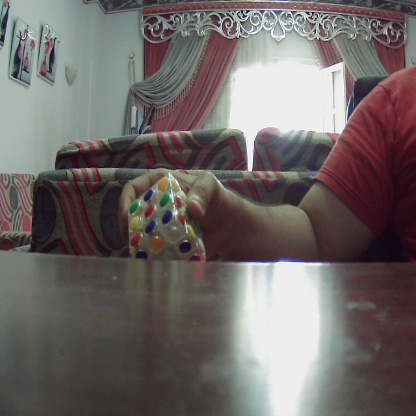Rubix Cube: (130, 179, 206, 262)
